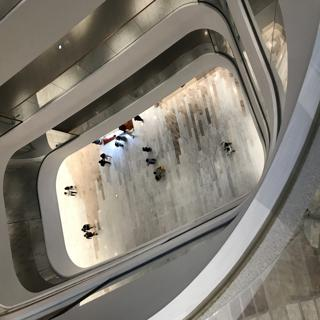person: (217, 138, 239, 158), (146, 167, 169, 183), (98, 147, 114, 165), (77, 220, 100, 230), (137, 145, 158, 155), (84, 229, 100, 241), (143, 158, 163, 166), (95, 160, 111, 169)
